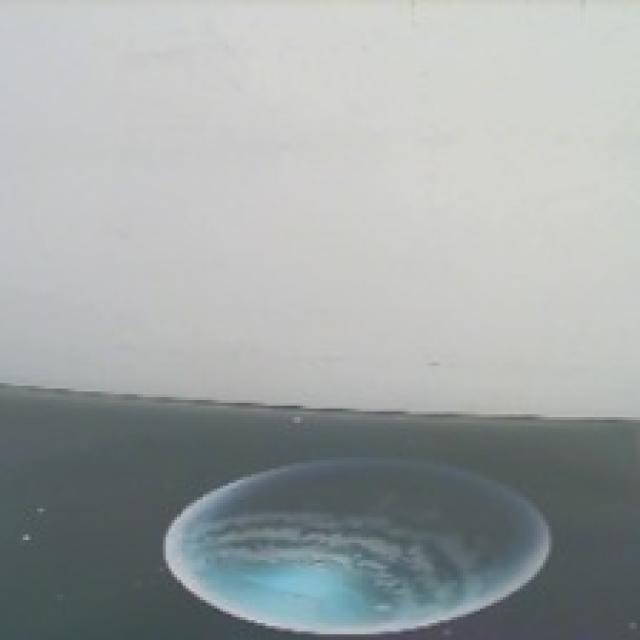Earth: (164, 457, 553, 640)
